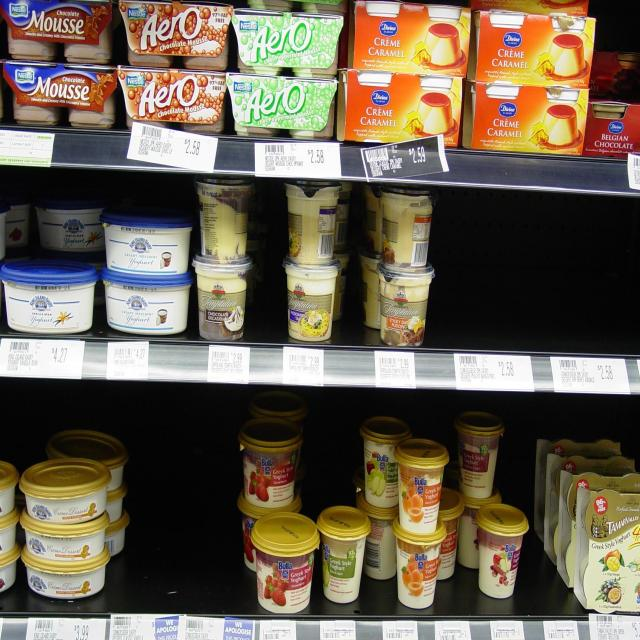void: (438, 189, 640, 358), (139, 417, 237, 612), (252, 178, 284, 338), (527, 514, 551, 617), (350, 198, 360, 344)
